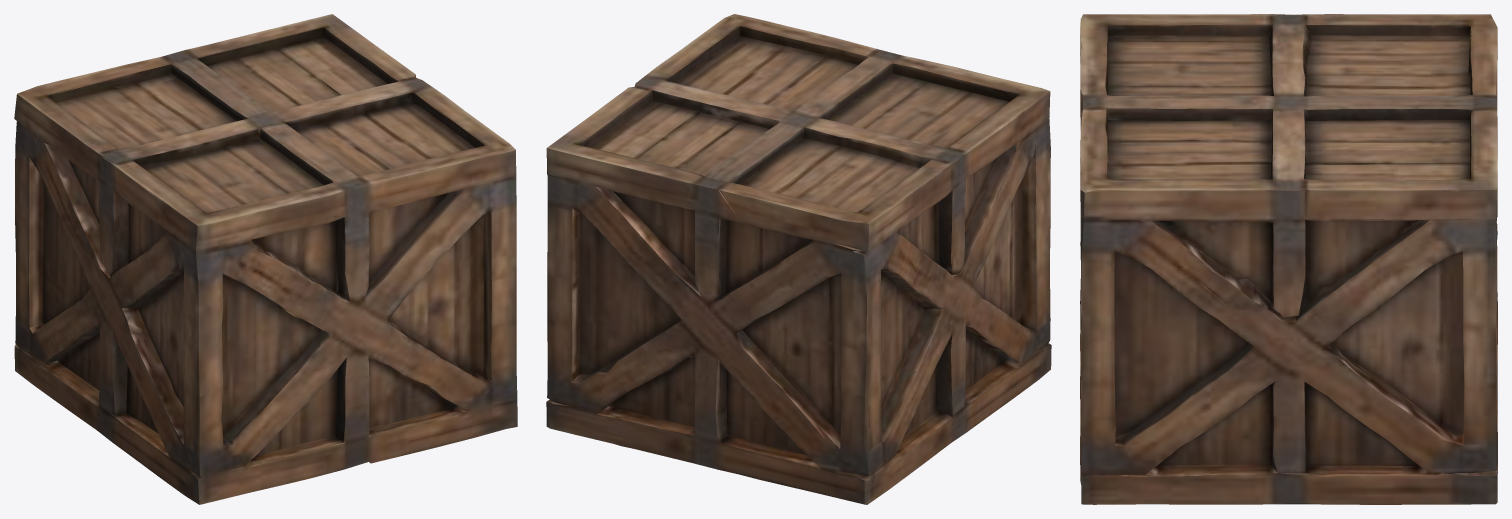
Rendered from cargo_wooden_crate.glb.
The picture shows the model from 3 angles, left to right: view 1: azimuth 30°, elevation 25°; view 2: azimuth 150°, elevation 25°; view 3: azimuth 270°, elevation 25°; orthographic projection. The views are drawn at different scales.
Visible parts, largest first — view 1: turn; view 2: turn; view 3: turn.
Boxes of the visible parts, bbox=[...] form: turn: bbox=[14, 14, 517, 504]; turn: bbox=[546, 14, 1051, 504]; turn: bbox=[1080, 14, 1497, 504].
Bounding box in the file's own units: 1.2 × 1 × 1.2.
Materials: 1 (1 with a texture image).
